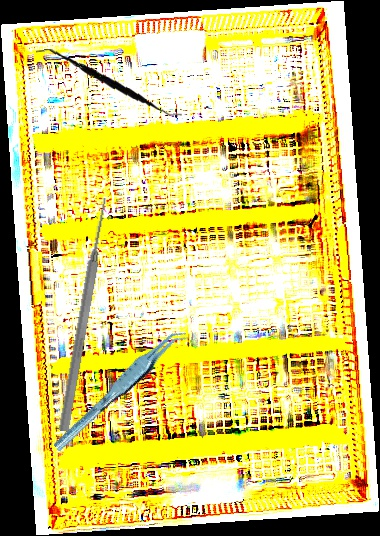Pusher: (56, 196, 113, 433)
Spatula Surgical: (35, 38, 183, 128)
Tissue Forceps: (41, 326, 199, 453)
